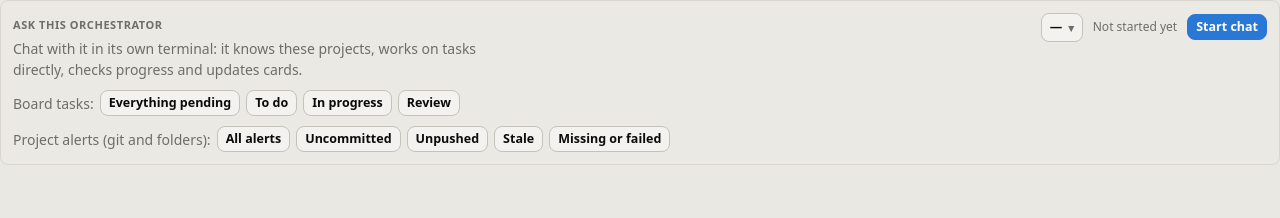
Test case: sends dashboard attention checks to this chat (PM-172)
This screenshot has width=1280, height=218.
Step 1. Click the button "All alerts" → (253, 139), box [217,126,290,152]
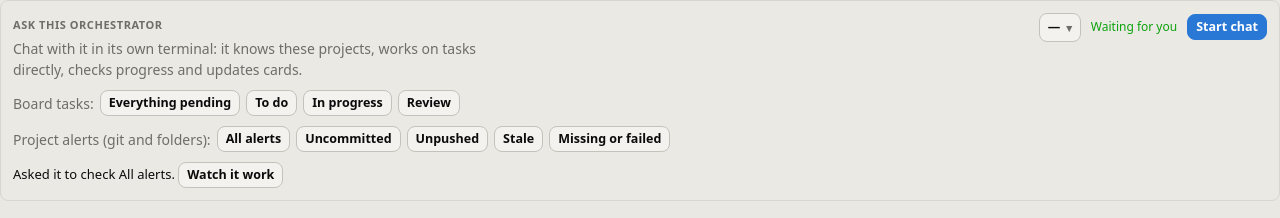
Expected: the message "Asked it to check All alerts. Watch it work" is shown, [13,162,283,188]
